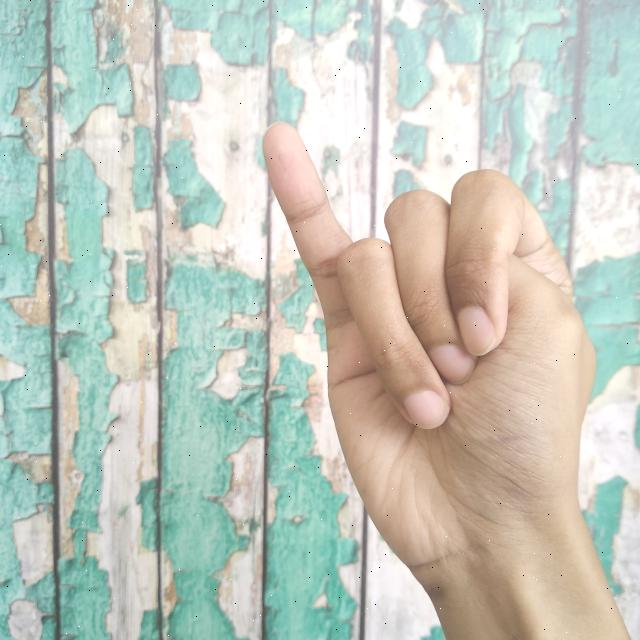I: (256, 116, 627, 640)
